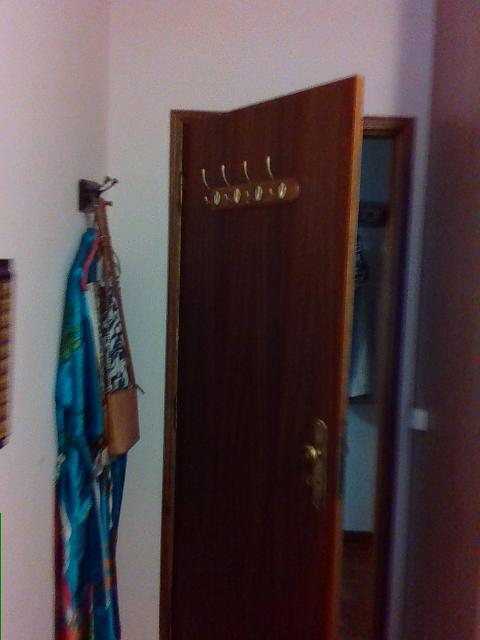semi_door: (157, 67, 421, 639)
